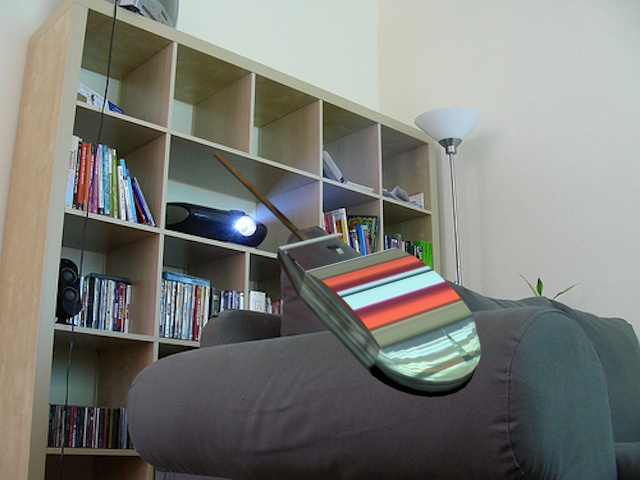mouse: (208, 144, 494, 400)
